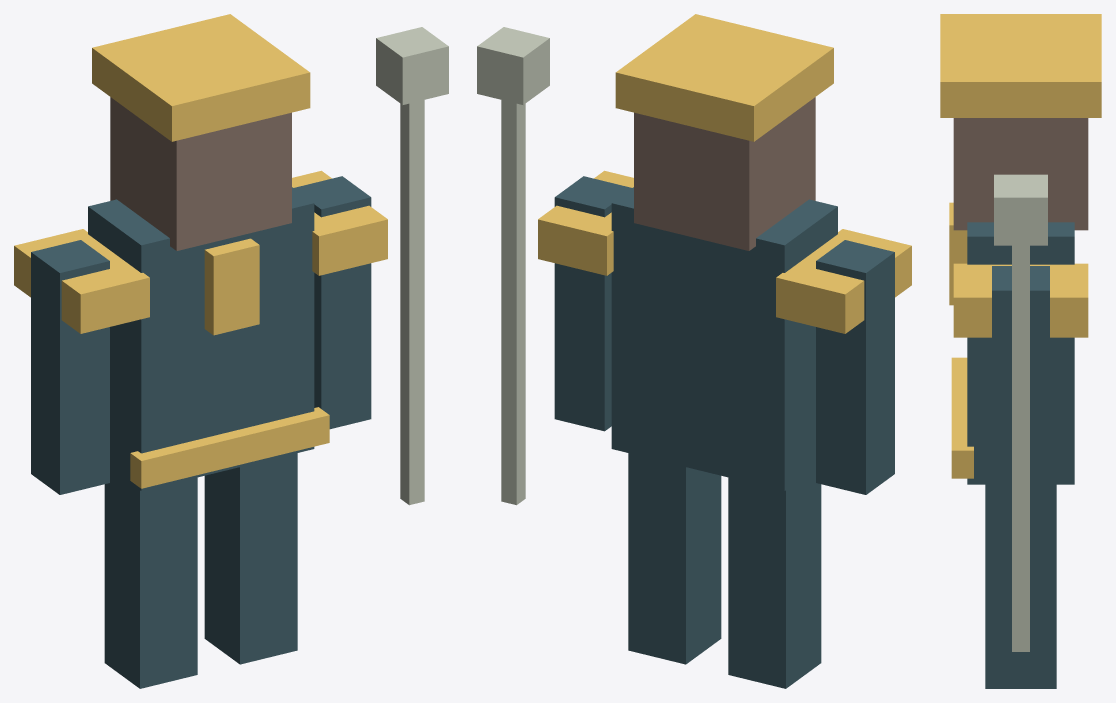
Rendered from 19_isolde_signalborn_custodian_at_hushbloom.glb.
The picture shows the model from 3 angles, left to right: view 1: azimuth 30°, elevation 25°; view 2: azimuth 150°, elevation 25°; view 3: azimuth 270°, elevation 25°; orthographic projection.
Parts seen in each view (by area): view 1: Isolde Signalborn, Custodian at Hushbloom; view 2: Isolde Signalborn, Custodian at Hushbloom; view 3: Isolde Signalborn, Custodian at Hushbloom.
Boxes of the visible parts, left/top/right/bottom form: Isolde Signalborn, Custodian at Hushbloom: left=14, top=14, right=448, bottom=688; Isolde Signalborn, Custodian at Hushbloom: left=477, top=14, right=911, bottom=688; Isolde Signalborn, Custodian at Hushbloom: left=940, top=14, right=1101, bottom=688.
Bounding box in the file's own units: 0.9962 × 1.46 × 0.3533.
